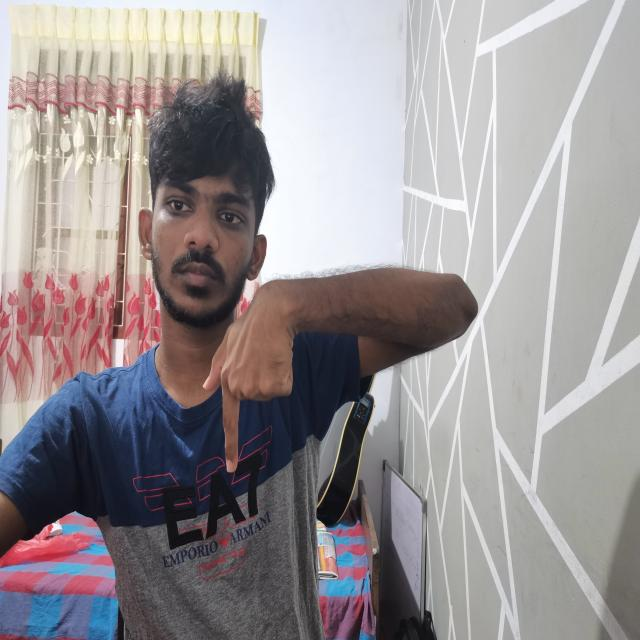Yes: (200, 252, 484, 484)
